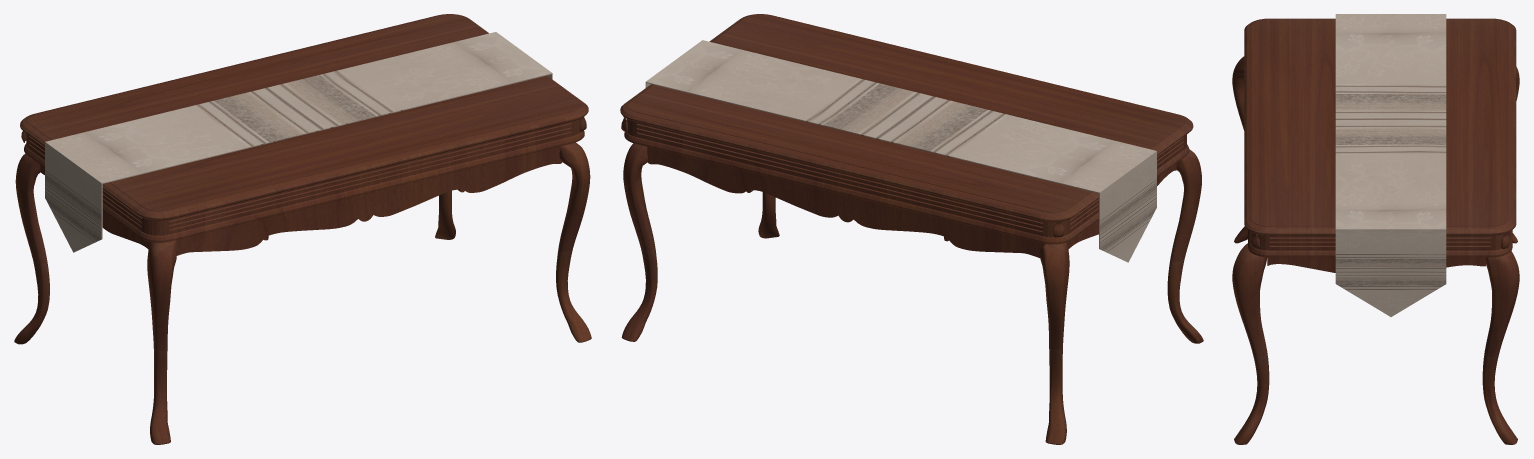
Rendered from стол (2).fbx.
The picture shows the model from 3 angles, left to right: view 1: azimuth 30°, elevation 25°; view 2: azimuth 150°, elevation 25°; view 3: azimuth 270°, elevation 25°; orthographic projection. The views are drawn at different scales.
Parts seen in each view (by area): view 1: Rectangle01, 桌布, Shape07, 退半成品13, 退半成品12, 退半成品14, 退半成品11, Shape08; view 2: Rectangle01, 桌布, Shape06, 退半成品14, 退半成品11, 退半成品13, 退半成品12; view 3: Rectangle01, 桌布, 退半成品12, 退半成品11, Shape04, 退半成品13.
Part boxes in pixels (x1,y1,x2,y2): Rectangle01: (20, 14, 588, 242); 桌布: (45, 32, 552, 252); Shape07: (175, 146, 562, 255); 退半成品13: (147, 240, 176, 444); 退半成品12: (556, 142, 591, 342); 退半成品14: (14, 153, 49, 344); 退半成品11: (435, 190, 455, 239); Shape08: (40, 165, 150, 249); Rectangle01: (620, 14, 1193, 244); 桌布: (645, 40, 1156, 262); Shape06: (647, 147, 1045, 257); 退半成品14: (1040, 242, 1069, 444); 退半成品11: (621, 143, 657, 341); 退半成品13: (1167, 149, 1203, 343); 退半成品12: (758, 192, 779, 238); Rectangle01: (1244, 18, 1516, 257); 桌布: (1335, 14, 1446, 316); 退半成品12: (1232, 243, 1269, 444); 退半成品11: (1482, 251, 1519, 444); Shape04: (1267, 257, 1485, 272); 退半成品13: (1232, 56, 1247, 243).
Bounding box in the file's own units: 63.37 × 30.33 × 35.76.
Materials: 2 (2 with a texture image).
